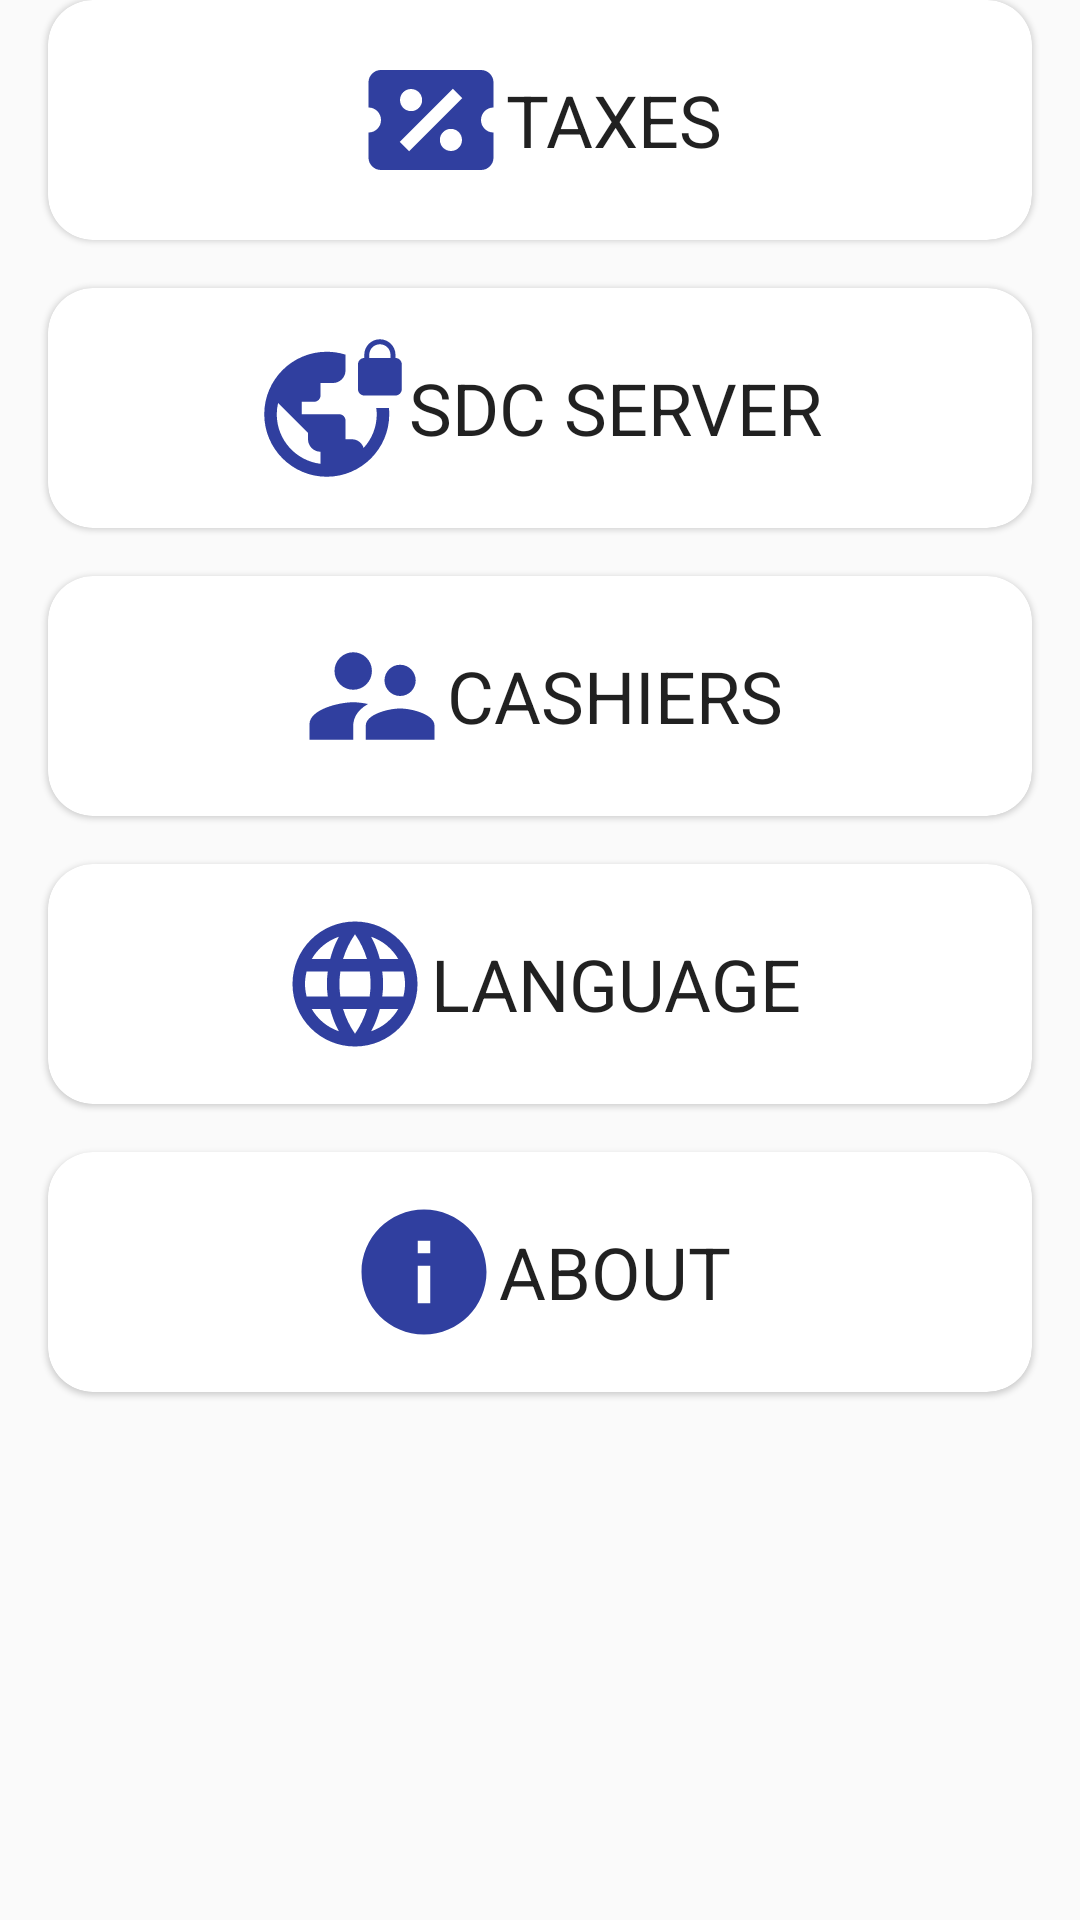

Icon click points for this 1080px×1920px phone screenshot, format (x,y):
info: (424,1272)
ticket percent: (431,120)
vpn lock: (333,408)
